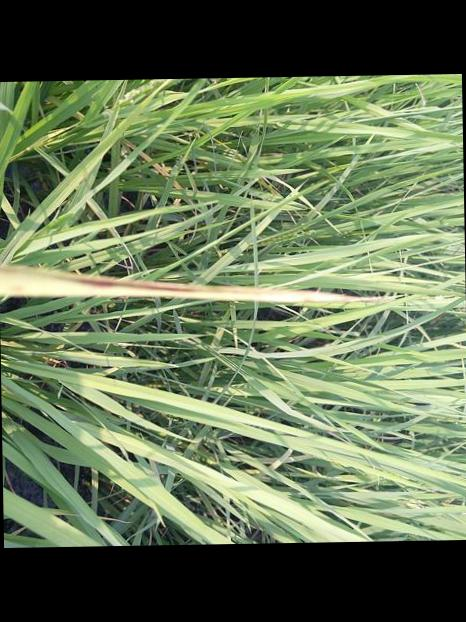Leaf Blight: (0, 263, 395, 304)
